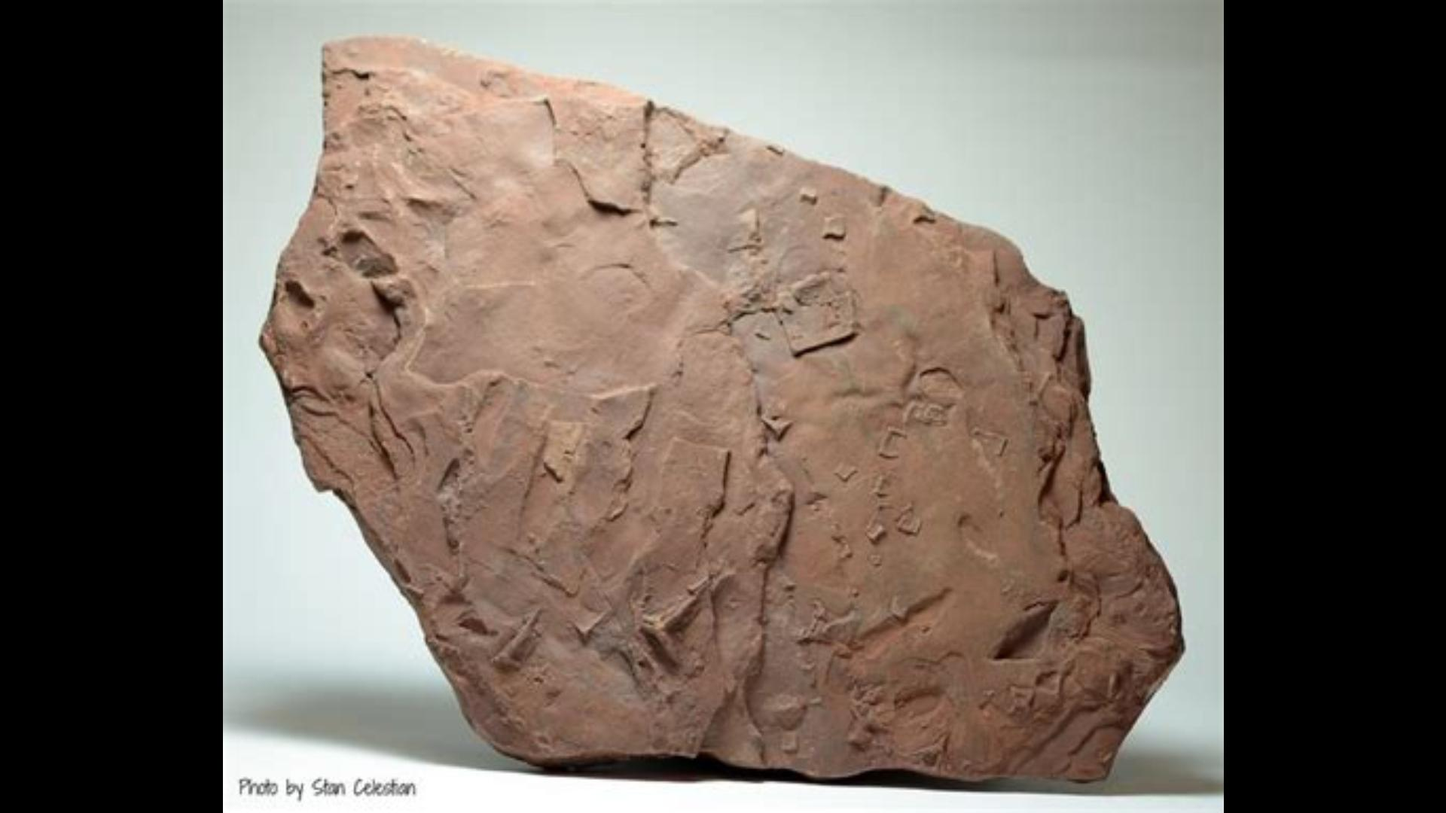rock: (262, 40, 1173, 773)
